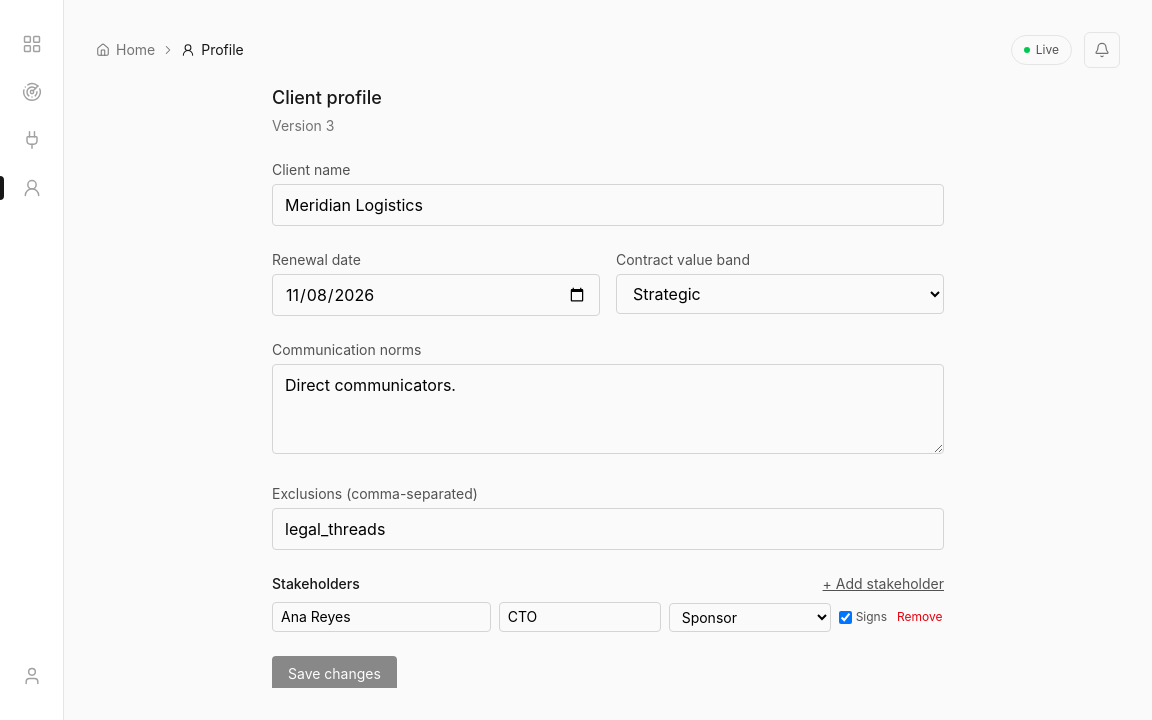
Test: ProfileEditorForm › renders a 422 response as an inline error, not a crash
The width and height of the screenshot is (1152, 720).
Type " Inc" into the field showing "Meridian Logistics".
click(608, 205); type(" Inc")  # box [272,184,944,226]
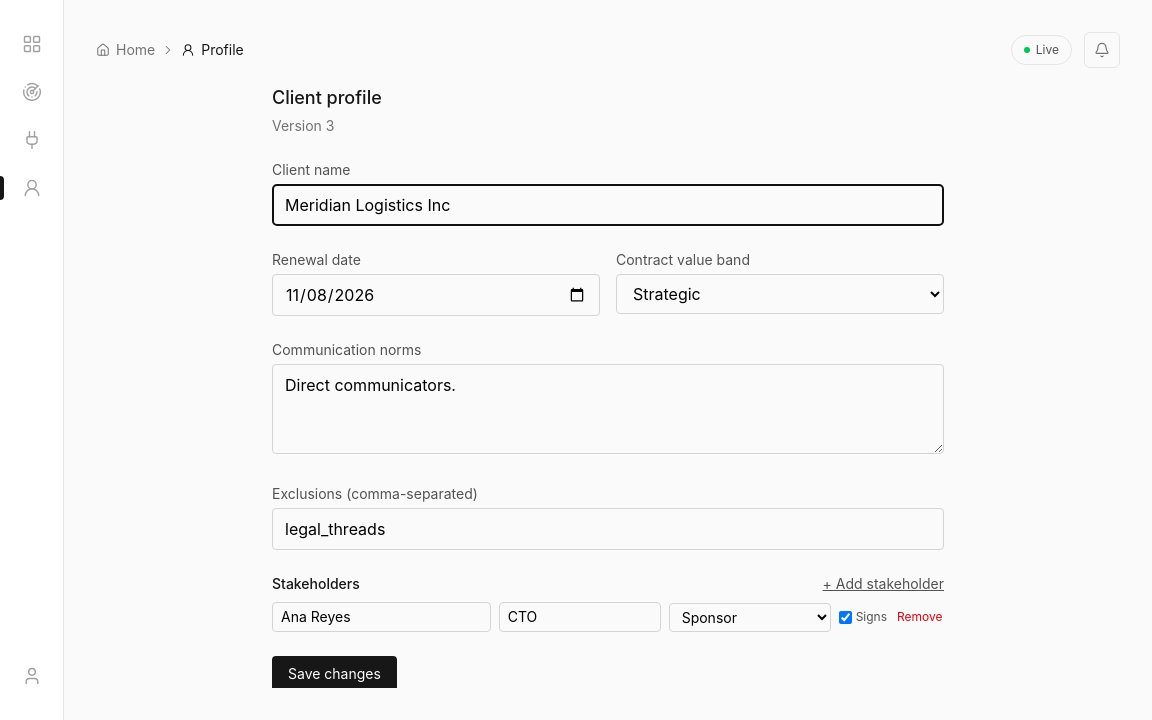
Click the button "Save changes".
click(334, 674)  # box [272,656,397,692]
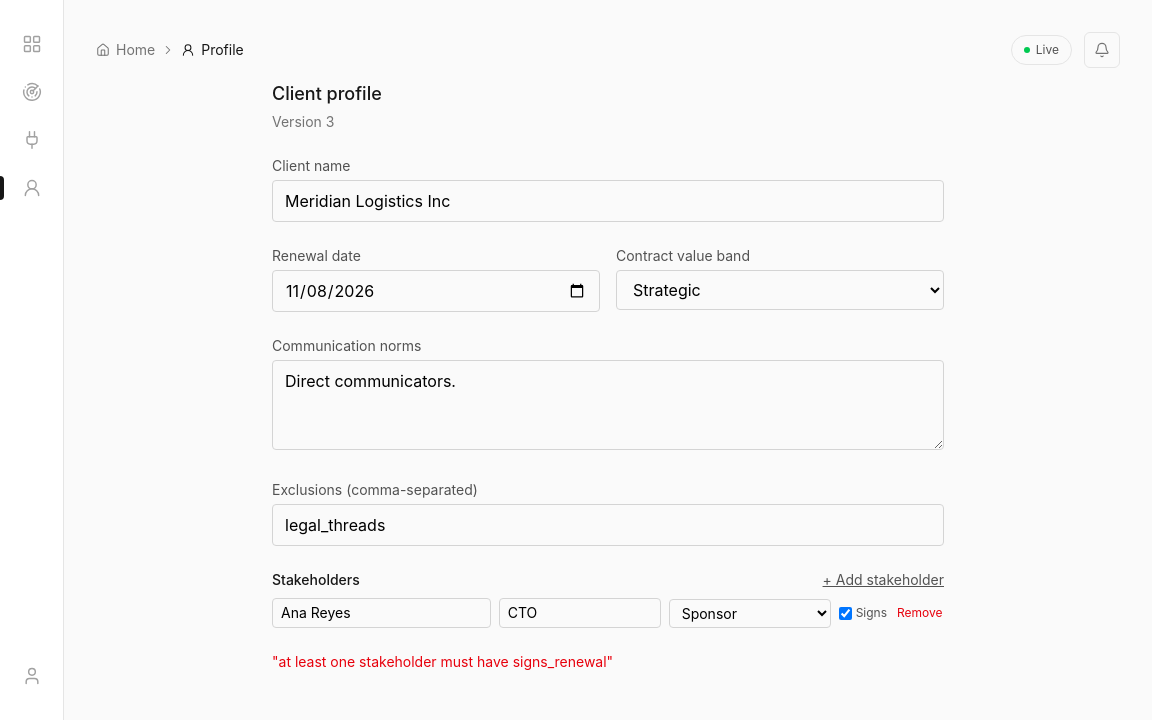
Now the text "\"at least one stakeholder must have signs_renewal\"" is shown, box [272,653,613,670]
